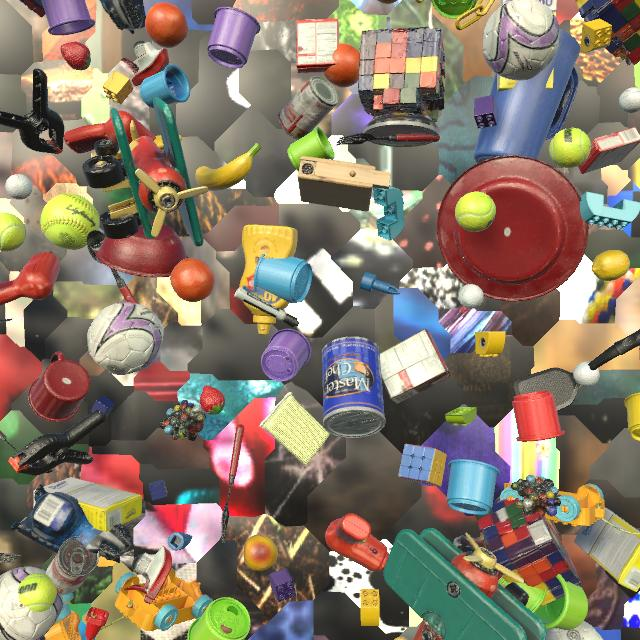ycb_002_master_chef_can: (322, 336, 386, 438), (639, 345, 640, 346)
ycb_004_sugar_box: (33, 477, 142, 532), (574, 507, 640, 592), (497, 0, 557, 92)
ycb_005_tomato_soup_can: (278, 76, 339, 140), (46, 536, 99, 594)
ycb_006_mustard_bottle: (240, 225, 298, 335)
ycb_008_pudding_box: (380, 329, 451, 404)
ycb_009_gelatin_box: (578, 127, 640, 174), (296, 18, 339, 73), (39, 639, 40, 640)
ycb_011_banana: (195, 143, 262, 191)
ycb_012_strawberry: (60, 42, 91, 70), (200, 385, 225, 415)
ycb_014_lemon: (591, 250, 630, 281)
ycb_015_peach: (244, 534, 278, 571), (378, 0, 397, 4)
ycb_017_orange: (170, 258, 215, 302), (145, 3, 188, 48), (323, 43, 360, 88)
